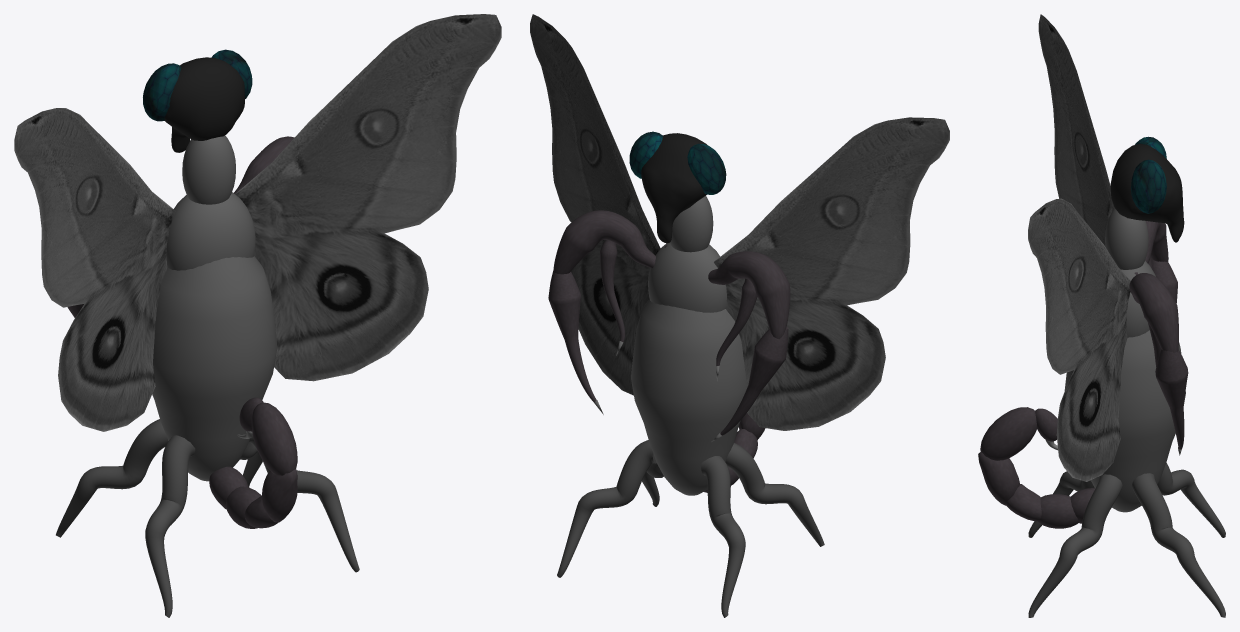
File: queenpunch.glb
The picture shows the model from 3 angles, left to right: view 1: azimuth 30°, elevation 25°; view 2: azimuth 150°, elevation 25°; view 3: azimuth 270°, elevation 25°; orthographic projection. The views are drawn at different scales.
Parts seen in each view (by area): view 1: Plane.002, Plane.001, Body, Head, Neck, Icosphere.005, BezierCurve, BezierCurve.001, Neck 2, Icosphere.006, BezierCurve.003, Eye (+2 smaller); view 2: Plane.001, Plane.002, Body, Neck, Head, BezierCurve.005, BezierCurve.009, BezierCurve.002, BezierCurve.001, BezierCurve, BezierCurve.004, BezierCurve.008 (+6 smaller); view 3: Plane.002, Plane.001, Body, Icosphere.005, Head, BezierCurve.002, BezierCurve.003, BezierCurve.005, Icosphere.006, Neck 2, BezierCurve.004, Eye 2 (+6 smaller).
Boxes of the visible parts, x1,y1,x2,y2 form: Plane.002: (235,14,501,381); Plane.001: (14,108,175,431); Body: (152,256,277,481); Head: (164,57,244,152); Neck: (166,192,255,270); Icosphere.005: (209,466,297,528); BezierCurve: (145,435,195,617); BezierCurve.001: (56,419,168,537); Neck 2: (182,135,235,204); Icosphere.006: (251,402,297,475); BezierCurve.003: (249,436,359,572); Eye: (143,63,181,121); Plane.001: (714,117,949,430); Plane.002: (530,14,660,395); Body: (631,299,746,495); Neck: (648,243,726,312); Head: (641,133,707,243); BezierCurve.005: (553,210,667,274); BezierCurve.009: (708,251,790,338); BezierCurve.002: (557,440,656,577); BezierCurve.001: (701,456,745,617); BezierCurve: (725,443,824,546); BezierCurve.004: (548,271,596,401); BezierCurve.008: (720,326,788,435); Plane.002: (1028,198,1131,481); Plane.001: (1038,14,1114,246); Body: (1064,330,1185,512); Icosphere.005: (978,452,1094,528); Head: (1110,143,1184,242); BezierCurve.002: (1132,473,1225,617); BezierCurve.003: (1028,474,1122,617); BezierCurve.005: (1129,272,1178,353); Icosphere.006: (980,407,1037,460); Neck 2: (1105,208,1148,269); BezierCurve.004: (1155,349,1188,449); Eye 2: (1131,159,1166,213).
Size of the model in its own units: 9.65 by 10.04 by 4.88.
7 materials, 3 textured.
